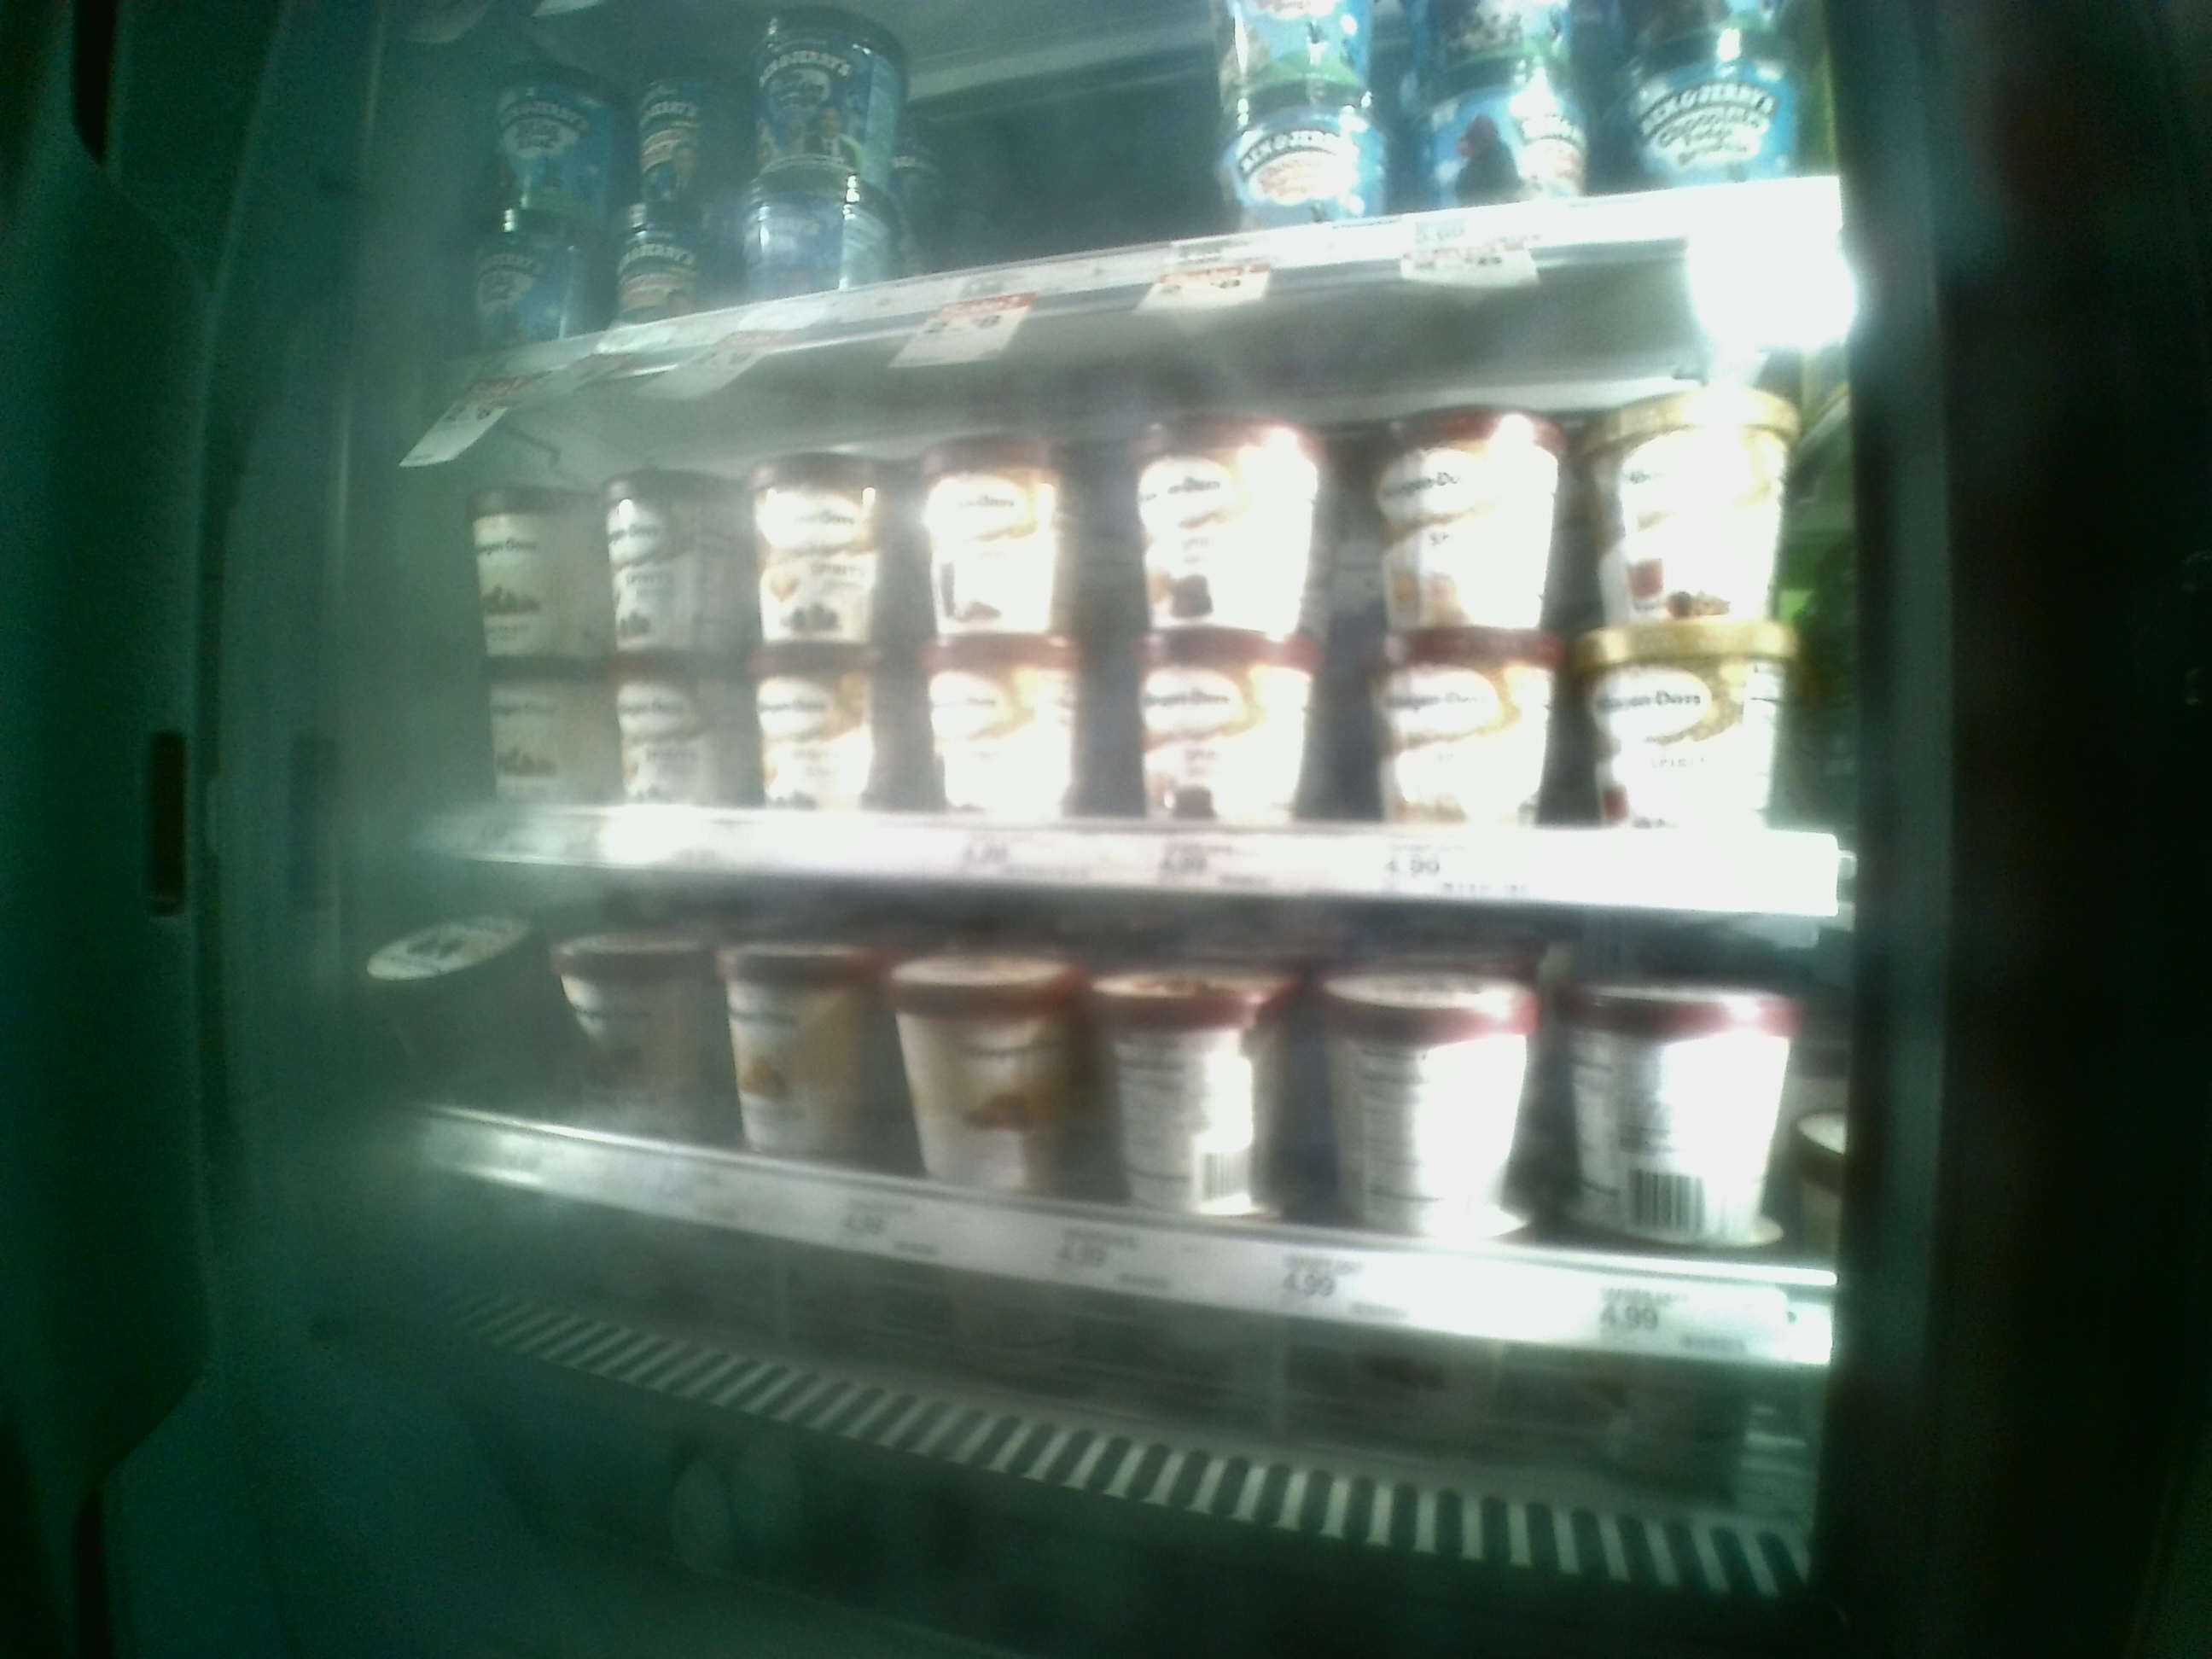shelf: (434, 225, 1878, 918), (435, 873, 1867, 1457)
